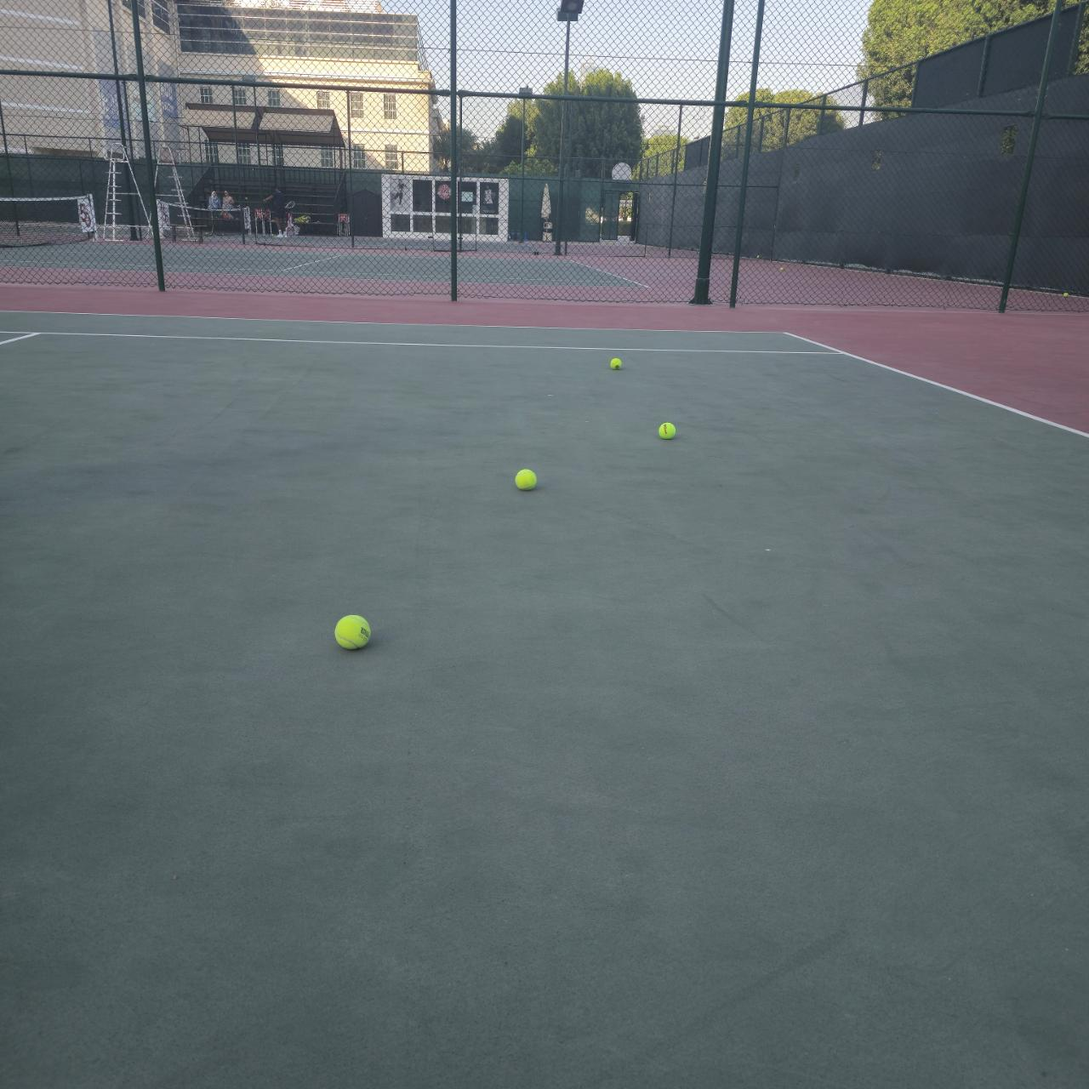tennis-ball: (333, 612, 372, 650), (512, 465, 538, 491), (656, 419, 676, 439), (610, 358, 622, 369)
